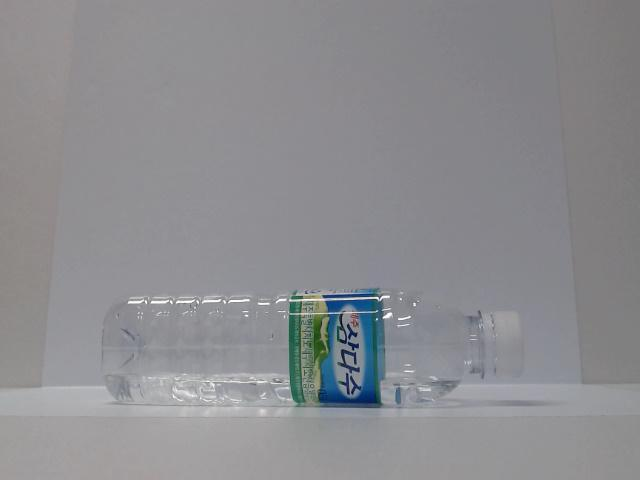bottle: (98, 282, 546, 416)
